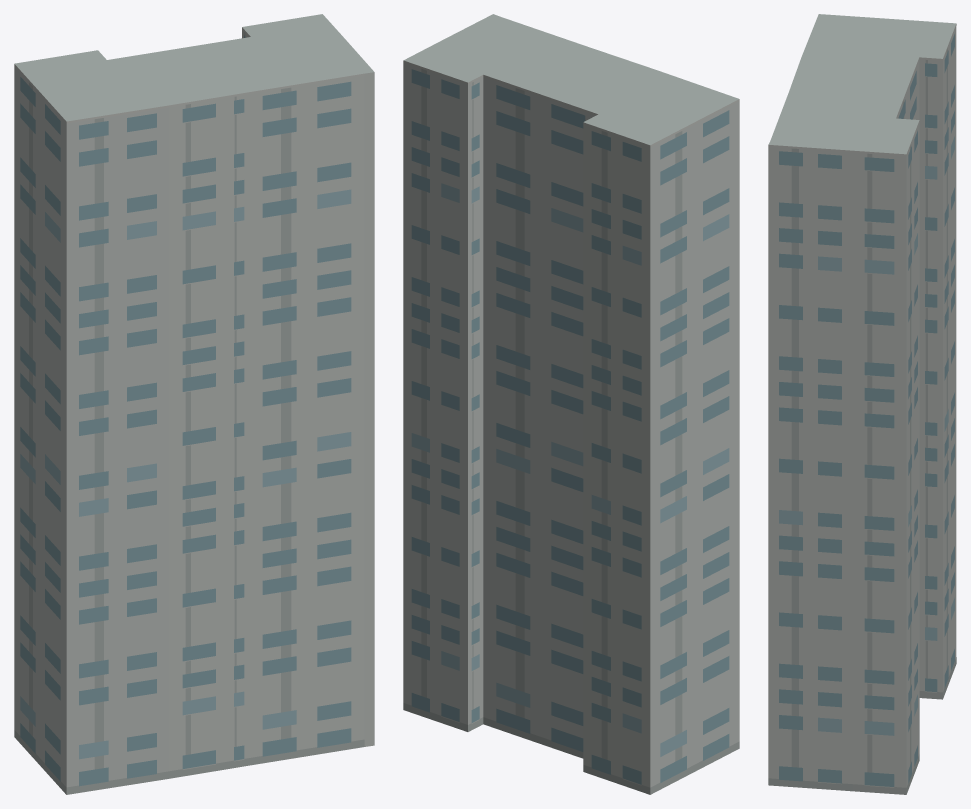
File: residential-3fe3803b-1602-4c5e-b927-f52407b6ce65.glb
The picture shows the model from 3 angles, left to right: view 1: azimuth 30°, elevation 25°; view 2: azimuth 150°, elevation 25°; view 3: azimuth 270°, elevation 25°; orthographic projection. The views are drawn at different scales.
Parts seen in each view (by area): view 1: residential-3fe3803b-1602-4c5e-b927-f52407b6ce65.tmp; view 2: residential-3fe3803b-1602-4c5e-b927-f52407b6ce65.tmp; view 3: residential-3fe3803b-1602-4c5e-b927-f52407b6ce65.tmp.
Part boxes in pixels (x1,y1,x2,y2): residential-3fe3803b-1602-4c5e-b927-f52407b6ce65.tmp: [14, 14, 374, 794]; residential-3fe3803b-1602-4c5e-b927-f52407b6ce65.tmp: [403, 14, 739, 794]; residential-3fe3803b-1602-4c5e-b927-f52407b6ce65.tmp: [768, 14, 956, 794].
Size of the model in its own units: 35.83 by 76.25 by 20.29.
